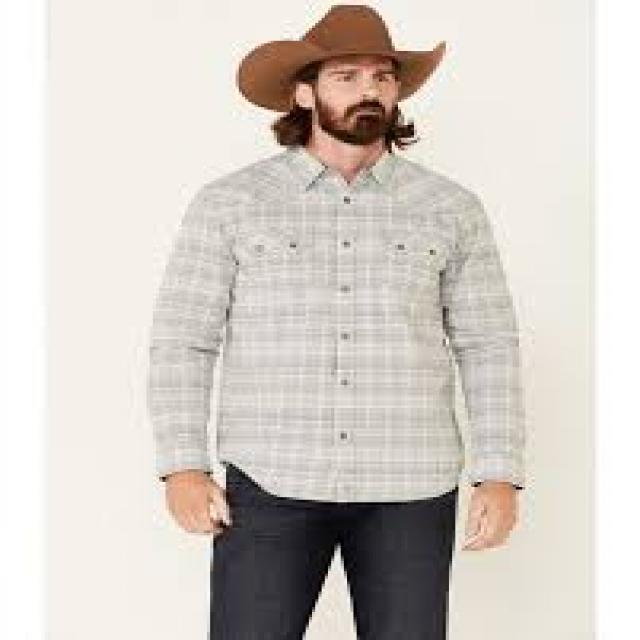plaid: (155, 145, 543, 502)
